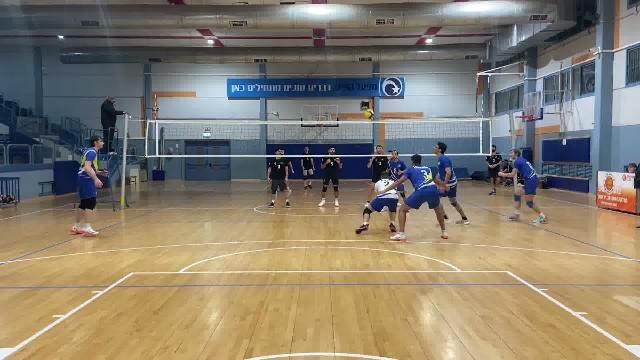ball: (363, 108, 374, 120)
